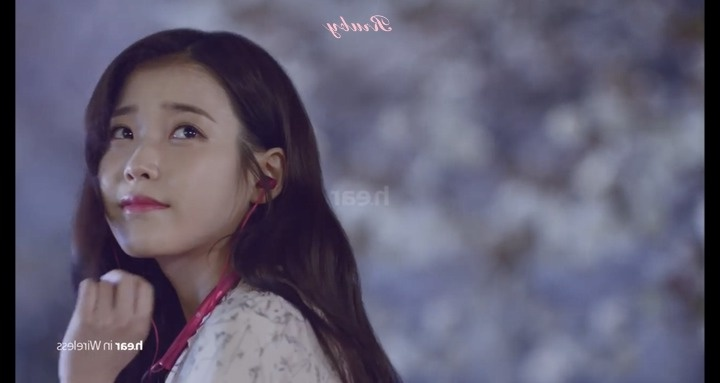earphone: (246, 147, 287, 204)
